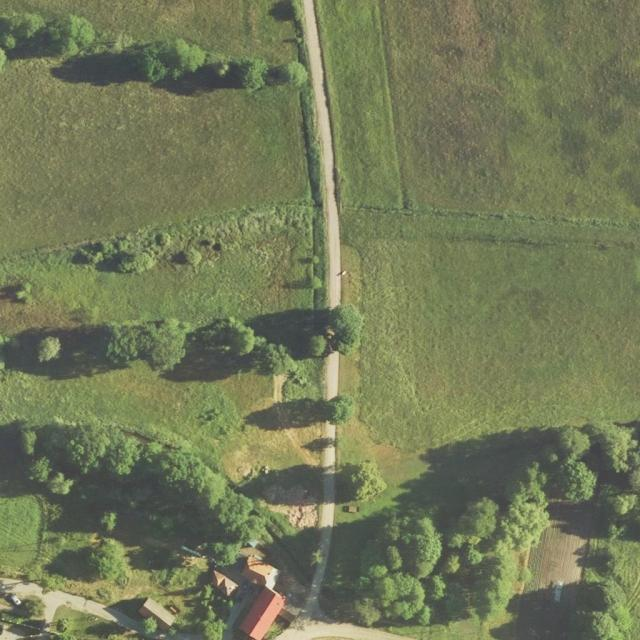building: (238, 554, 288, 640), (137, 595, 178, 634), (206, 567, 239, 598)
greenland: (0, 320, 316, 628)
metalled_road: (318, 443, 338, 570), (304, 567, 322, 617), (323, 351, 340, 400)
